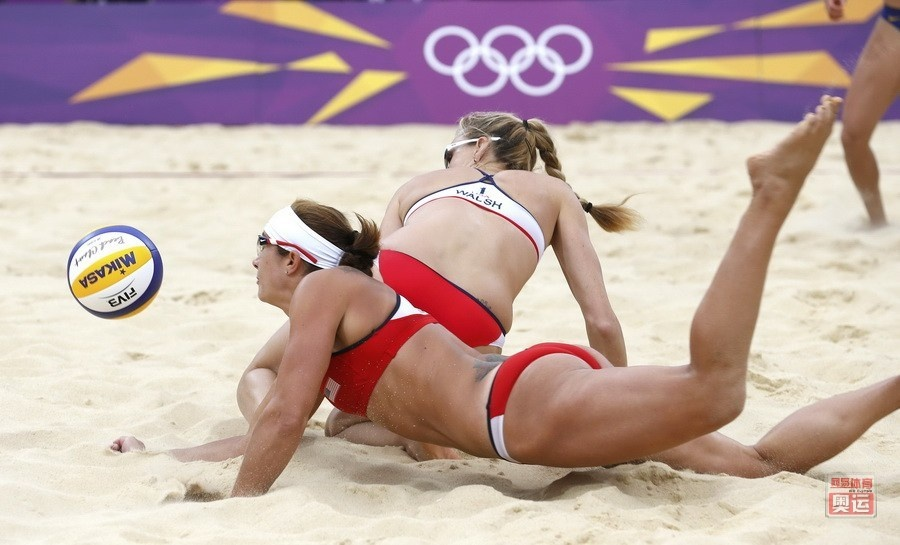falling: (178, 72, 836, 524)
